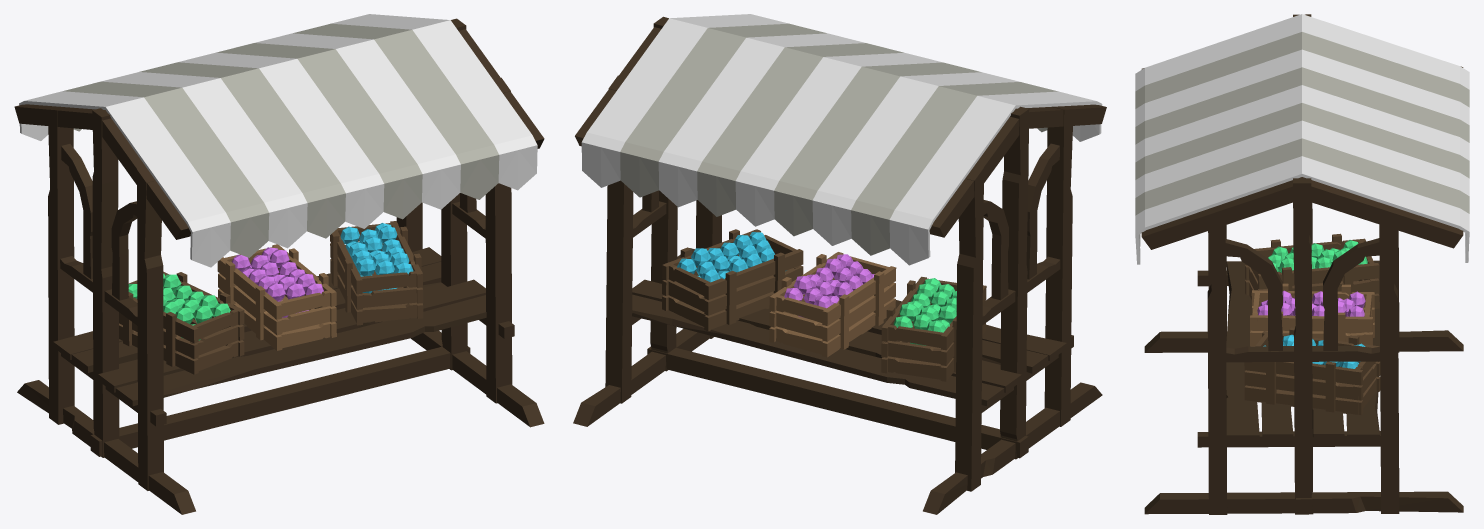
The model's file is FH_Shop3.fbx.
3 renders of one model, left to right at view 1: azimuth 30°, elevation 25°; view 2: azimuth 150°, elevation 25°; view 3: azimuth 270°, elevation 25°, orthographic. The views are drawn at different scales.
Parts seen in each view (by area): view 1: Market Scene.013; view 2: Market Scene.013; view 3: Market Scene.013.
Part boxes in pixels (bbox=[...]): Market Scene.013: bbox=[14, 14, 544, 514]; Market Scene.013: bbox=[573, 14, 1106, 514]; Market Scene.013: bbox=[1135, 14, 1469, 514].
Bounding box in the file's own units: 1854 × 1650 × 1481.
